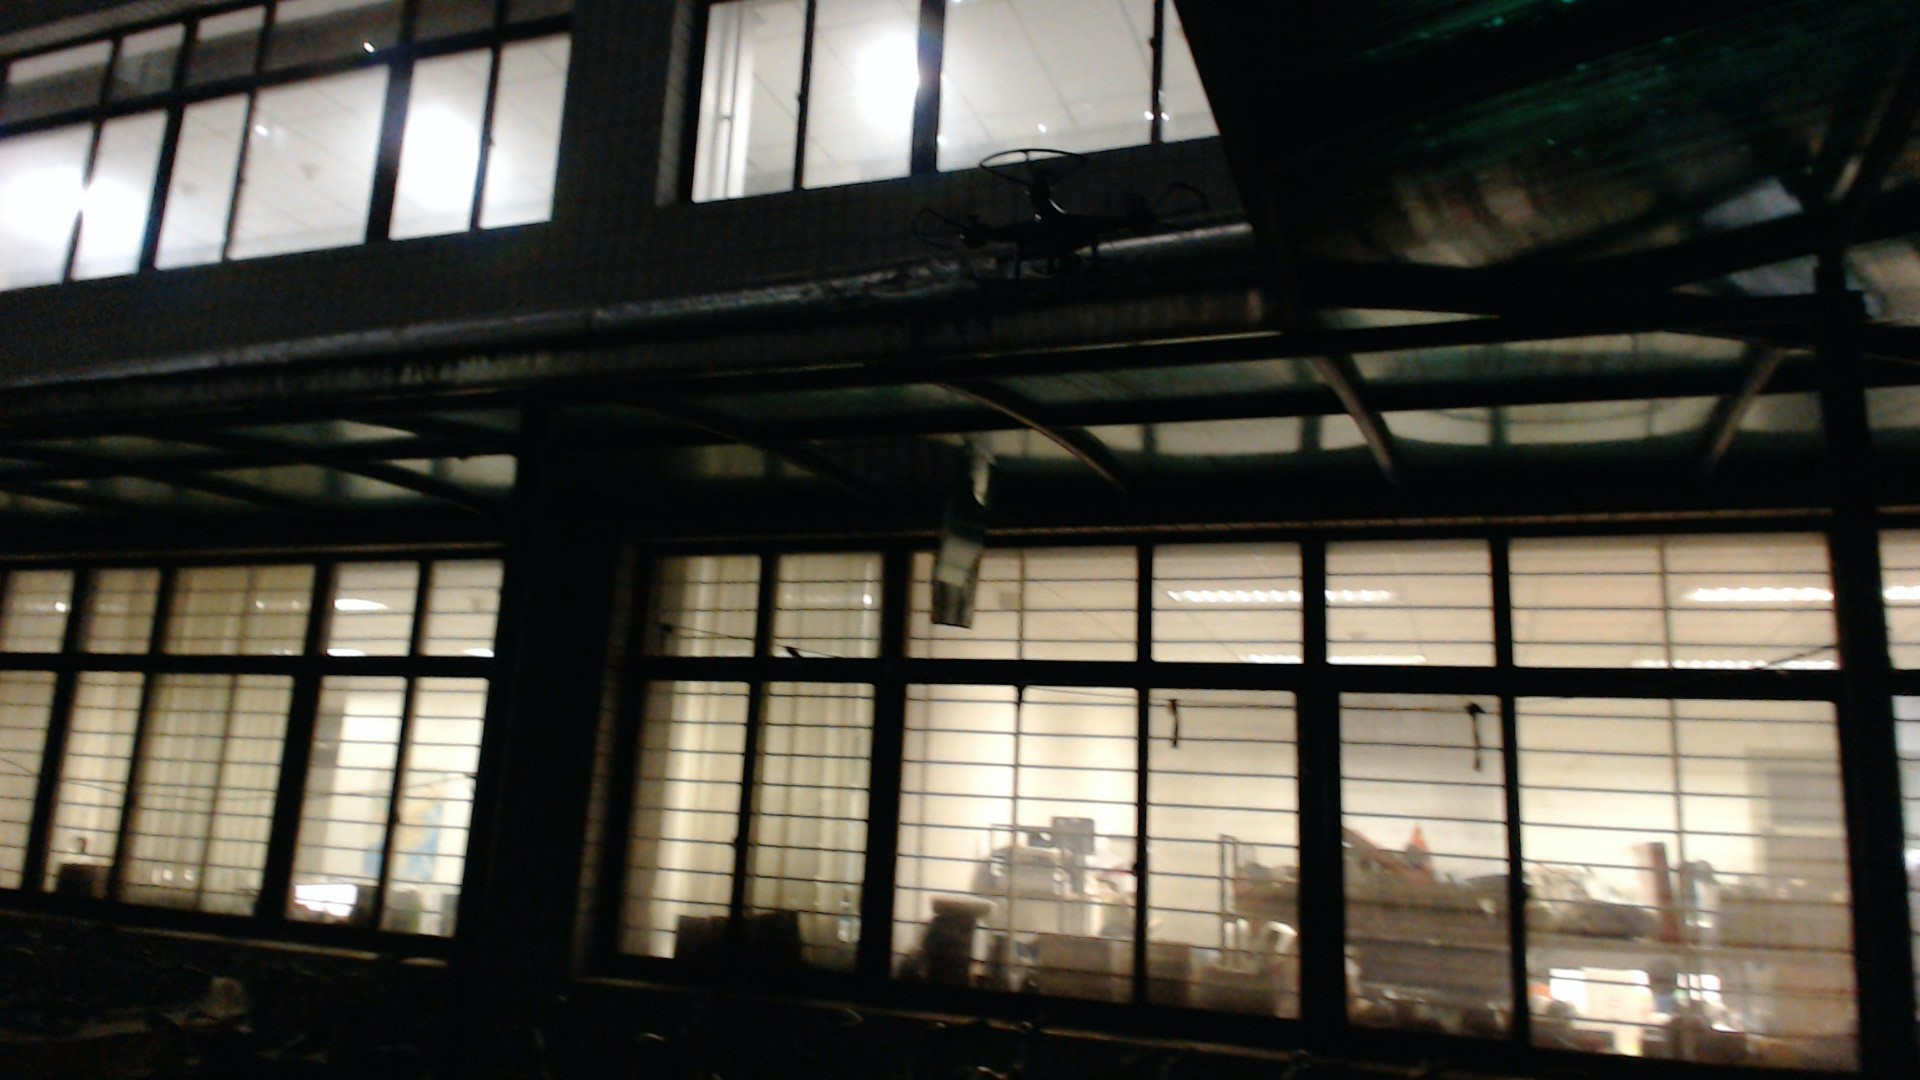test_drone: (907, 148, 1224, 303)
